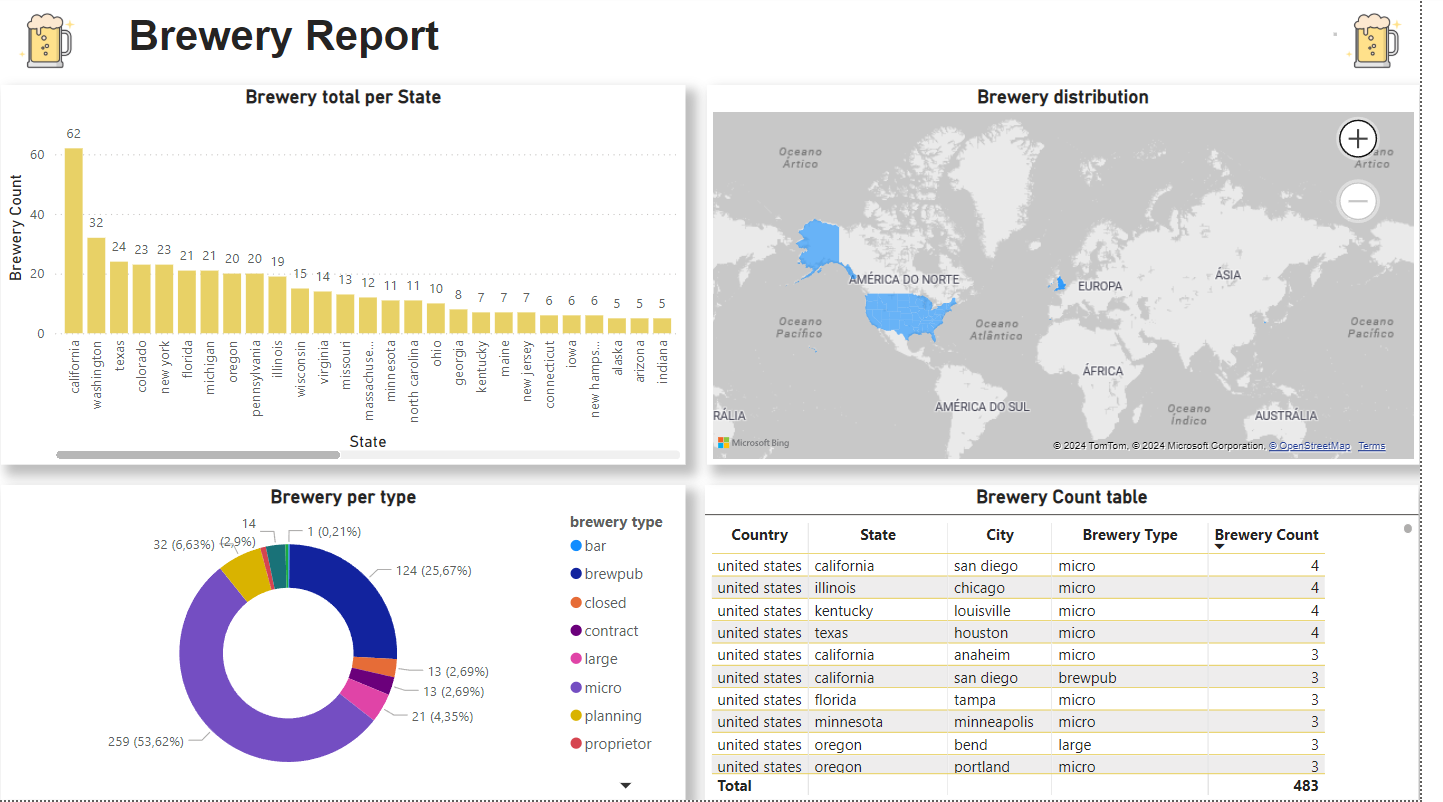

What the dashboard file says about the page in this screenshot:
{"tool":"powerbi","page":{"name":"Página 1","canvas":[1280,720],"ordinal":0},"visuals":[{"type":"columnChart","title":"Brewery total per State","fields":{"Y":["Sum(gold_brewery_aggregated.brewery_count)"],"Category":["gold_brewery_aggregated.state"]},"box":[9.9,79.7,613.4,340.3],"z":0},{"type":"donutChart","title":"Brewery per type","fields":{"Y":["Sum(gold_brewery_aggregated.brewery_count)"],"Series":["gold_brewery_aggregated.brewery_type"]},"box":[9.9,437.9,613.4,282.1],"z":1000},{"type":"tableEx","title":"Brewery Count table","fields":{"Values":["gold_brewery_aggregated.country","gold_brewery_aggregated.state","gold_brewery_aggregated.city","gold_brewery_aggregated.brewery_type","Sum(gold_brewery_aggregated.brewery_count)"]},"box":[640.3,437.9,639.4,282.1],"z":2000},{"type":"filledMap","title":"Brewery distribution","fields":{"Category":["gold_brewery_aggregated.state"]},"box":[642.1,79.7,637.6,340.3],"z":3000},{"type":"image","box":[1198.2,0,81.5,79.7],"z":4000},{"type":"image","box":[9.9,0,81.5,79.7],"z":5000},{"type":"textbox","box":[1198.2,27.8,12.5,12.5],"z":6000},{"type":"textbox","box":[119.1,9,298.2,62.7],"z":7000}]}

Visuals, with their boxes in screenshot pixels (x1, y1, x2, y2), scaled from the page's 1280x720 canvas onto the 1443x802 screenshot:
"Brewery total per State" columnChart: {"left": 11, "top": 89, "right": 703, "bottom": 468}
"Brewery per type" donutChart: {"left": 11, "top": 488, "right": 703, "bottom": 801}
"Brewery Count table" tableEx: {"left": 722, "top": 488, "right": 1442, "bottom": 801}
"Brewery distribution" filledMap: {"left": 724, "top": 89, "right": 1442, "bottom": 468}
image: {"left": 1351, "top": 0, "right": 1442, "bottom": 89}
image: {"left": 11, "top": 0, "right": 103, "bottom": 89}
textbox: {"left": 1351, "top": 31, "right": 1365, "bottom": 45}
textbox: {"left": 134, "top": 10, "right": 470, "bottom": 80}
